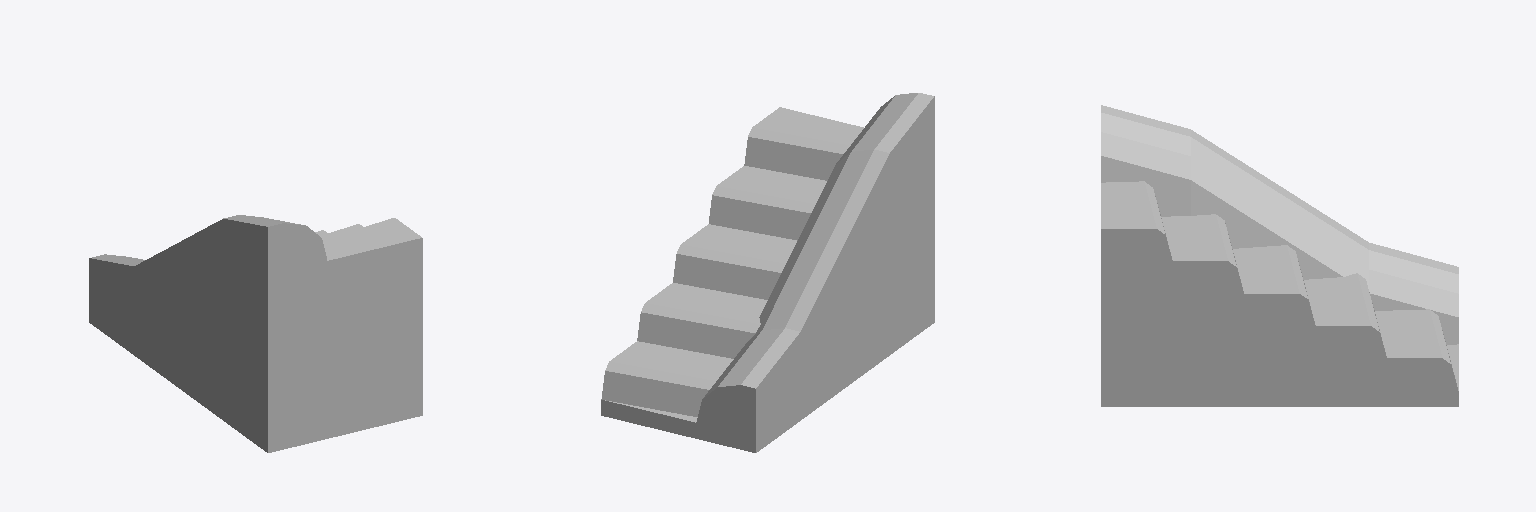
File: Path_Steps_Grass_Edge.obj
3 renders of one model, left to right at view 1: azimuth 30°, elevation 25°; view 2: azimuth 150°, elevation 25°; view 3: azimuth 270°, elevation 25°, orthographic.
Visible parts, largest first — view 1: object1; view 2: object1; view 3: object1.
Boxes of the visible parts, box(x1,y1,x2,y2) form: object1: box(89, 215, 422, 452); object1: box(601, 93, 934, 452); object1: box(1101, 105, 1458, 406).
Bounding box in the file's own units: 1 × 1.4 × 2.